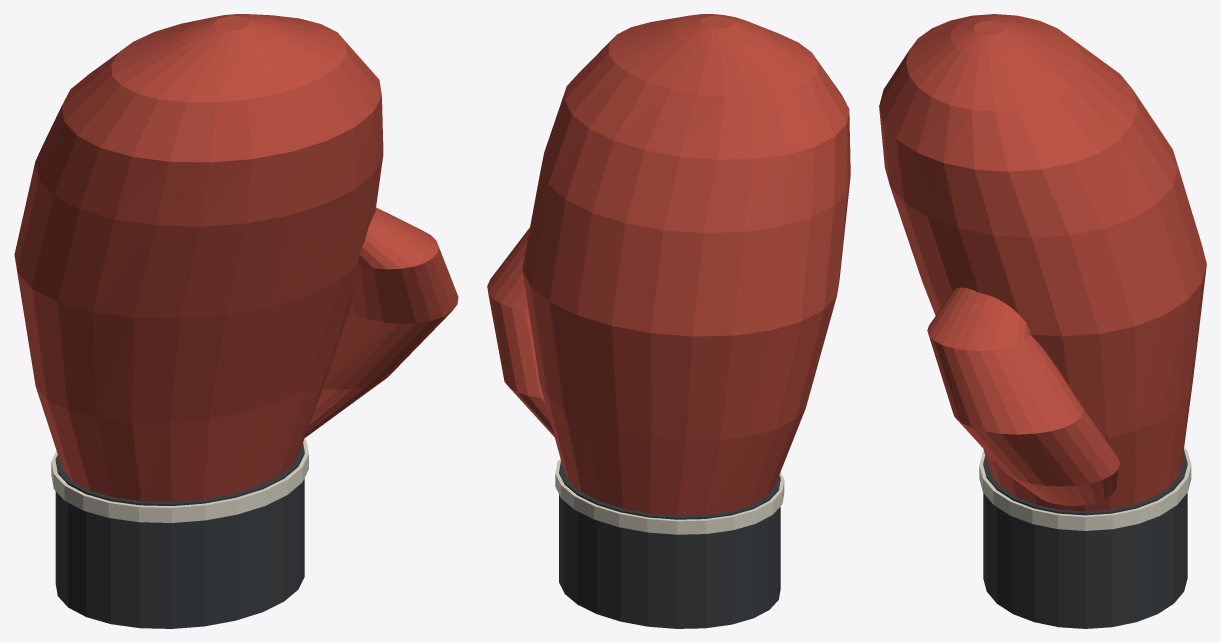
3 views of the same model, side by side, from view 1: azimuth 30°, elevation 25°; view 2: azimuth 150°, elevation 25°; view 3: azimuth 270°, elevation 25° (orthographic). The views are drawn at different scales.
Parts seen in each view (by area): view 1: WholePaddedCurledFistWithOpenWrist, WholeOpenWristCuffGroundSole, WholeInwardCurledPaddedThumb, WholeNarrowCuffBinding; view 2: WholePaddedCurledFistWithOpenWrist, WholeOpenWristCuffGroundSole, WholeInwardCurledPaddedThumb, WholeNarrowCuffBinding; view 3: WholePaddedCurledFistWithOpenWrist, WholeInwardCurledPaddedThumb, WholeOpenWristCuffGroundSole, WholeNarrowCuffBinding.
Boxes of the visible parts, left/top/right/bottom form: WholePaddedCurledFistWithOpenWrist: left=14, top=14, right=383, bottom=501; WholeOpenWristCuffGroundSole: left=55, top=443, right=304, bottom=628; WholeInwardCurledPaddedThumb: left=304, top=207, right=458, bottom=437; WholeNarrowCuffBinding: left=51, top=439, right=308, bottom=522; WholePaddedCurledFistWithOpenWrist: left=522, top=14, right=850, bottom=515; WholeOpenWristCuffGroundSole: left=559, top=461, right=780, bottom=628; WholeInwardCurledPaddedThumb: left=487, top=227, right=554, bottom=436; WholeNarrowCuffBinding: left=555, top=459, right=784, bottom=534; WholePaddedCurledFistWithOpenWrist: left=879, top=14, right=1206, bottom=511; WholeInwardCurledPaddedThumb: left=927, top=287, right=1119, bottom=505; WholeOpenWristCuffGroundSole: left=983, top=450, right=1187, bottom=628; WholeNarrowCuffBinding: left=979, top=447, right=1191, bottom=530.
Bounding box in the file's own units: 0.217 × 0.315 × 0.17.
